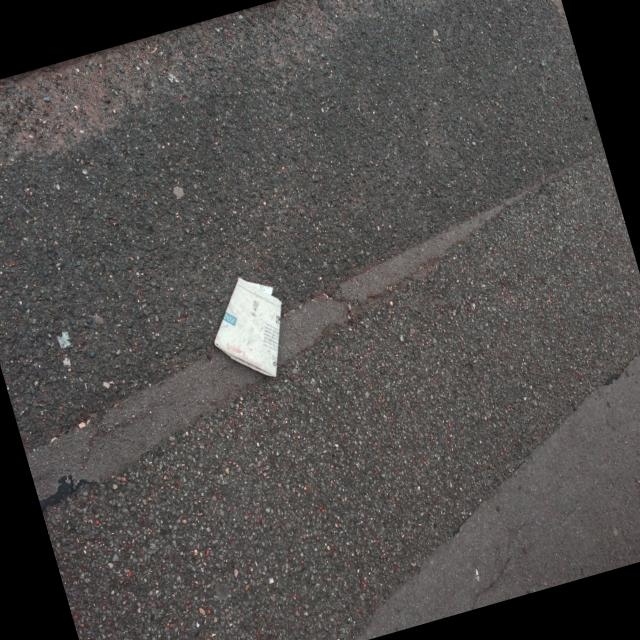less trash: (214, 278, 282, 377)
